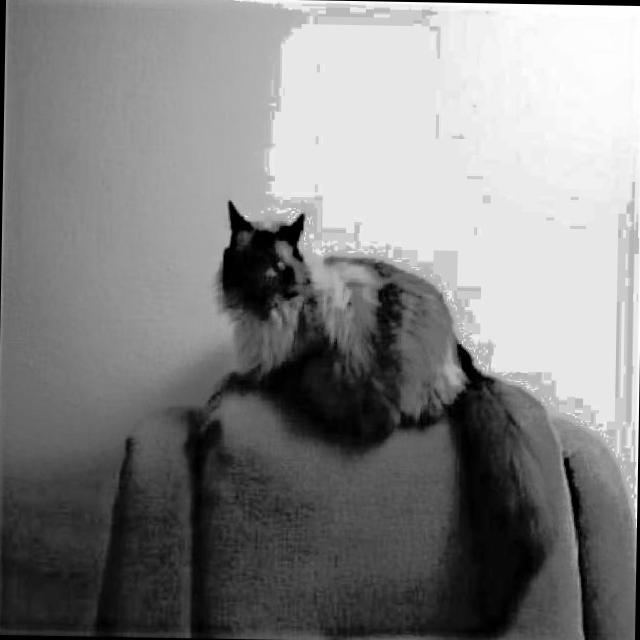Cat: (207, 183, 478, 450)
